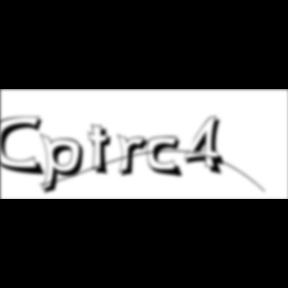4: (184, 115, 230, 179)
C: (0, 115, 48, 178)
c: (147, 136, 187, 180)
p: (40, 132, 90, 198)
r: (117, 134, 155, 180)
t: (88, 124, 120, 179)
